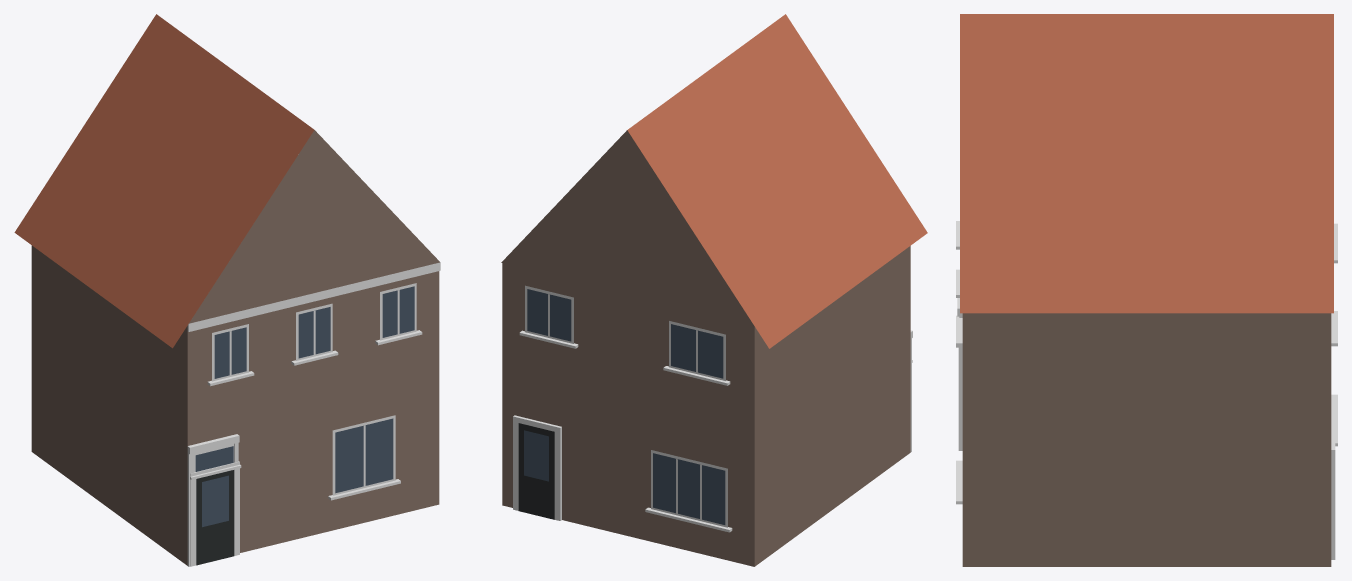
File: nn-row-small__small__2__gable__short__solid.glb
The picture shows the model from 3 angles, left to right: view 1: azimuth 30°, elevation 25°; view 2: azimuth 150°, elevation 25°; view 3: azimuth 270°, elevation 25°; orthographic projection. The views are drawn at different scales.
Visible parts, largest first — view 1: nn-row-small__small__2__gable__short__solid; view 2: nn-row-small__small__2__gable__short__solid; view 3: nn-row-small__small__2__gable__short__solid.
Part boxes in pixels (left/top/right/bottom): nn-row-small__small__2__gable__short__solid: left=14, top=14, right=440, bottom=566; nn-row-small__small__2__gable__short__solid: left=501, top=14, right=927, bottom=566; nn-row-small__small__2__gable__short__solid: left=956, top=14, right=1337, bottom=566.
Size of the model in its own units: 7.09 by 9.7 by 6.98.
